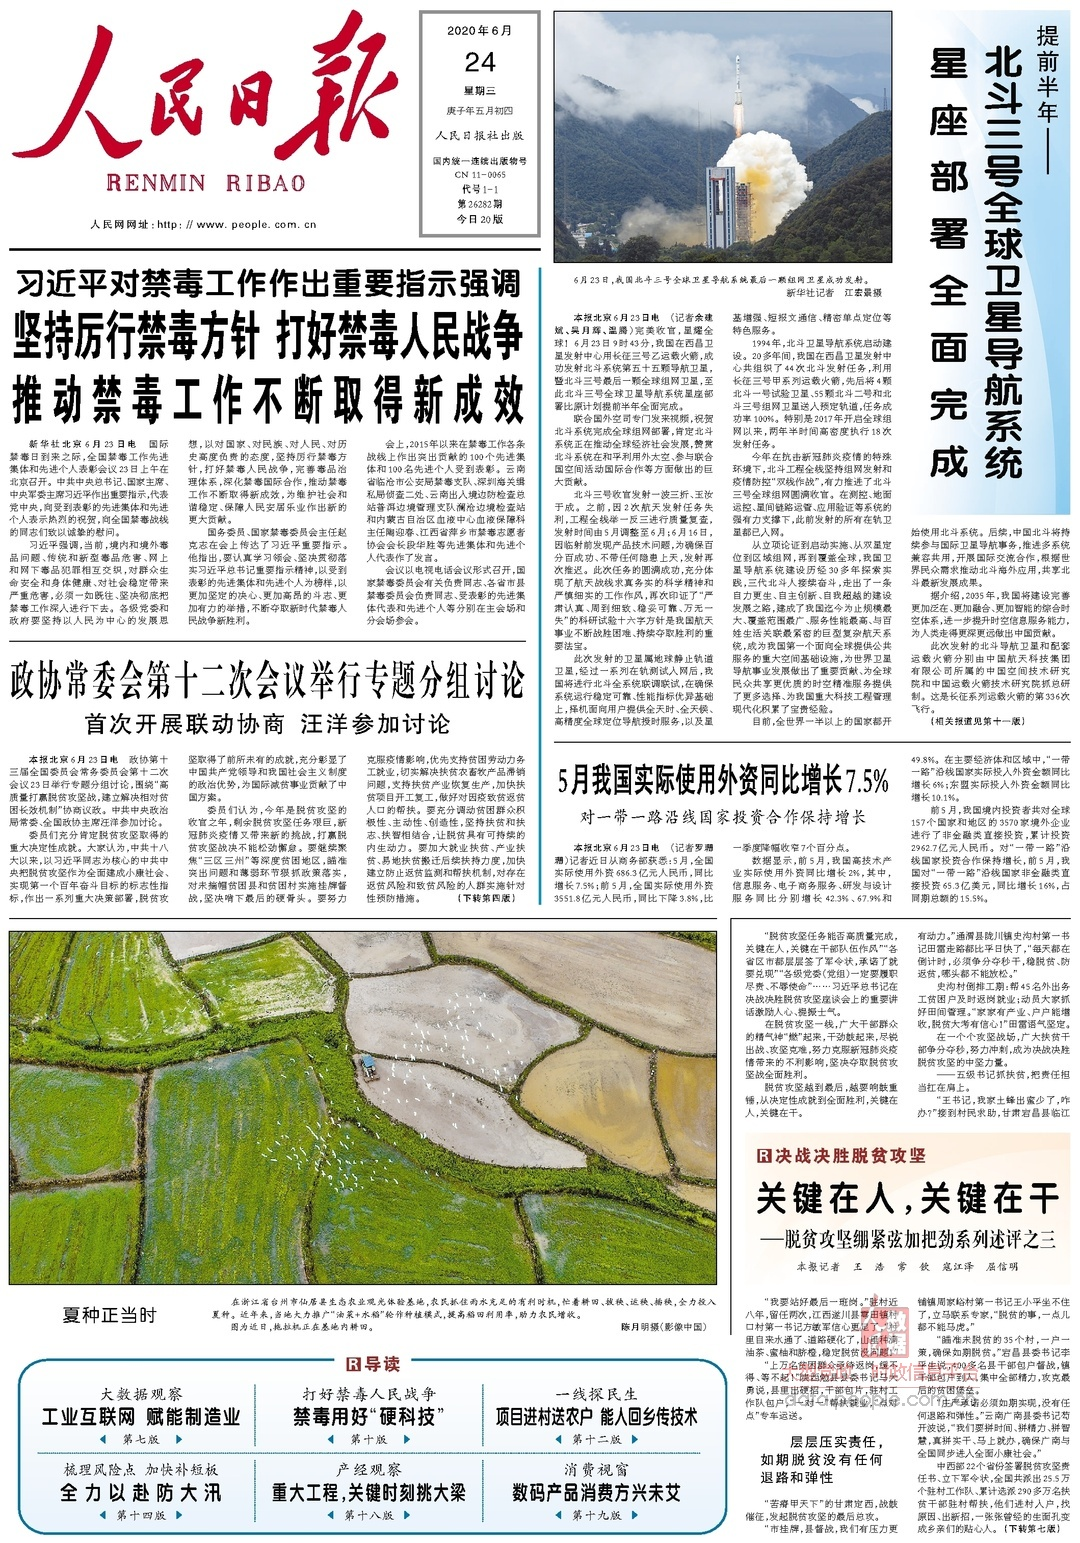pic: (5, 925, 724, 1289), (550, 7, 895, 269)
